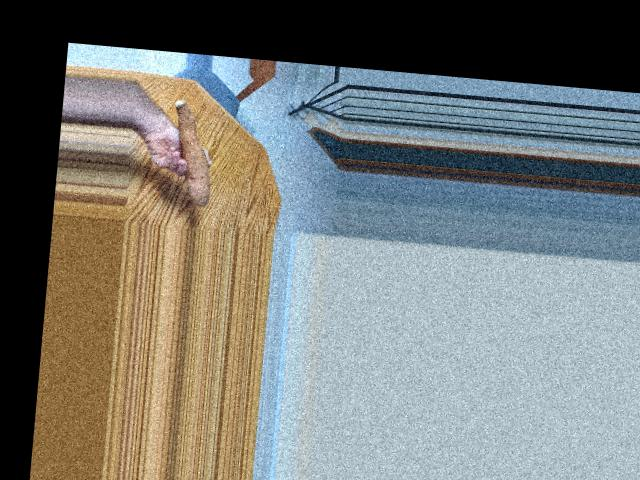sweet_potato: (156, 99, 222, 203)
